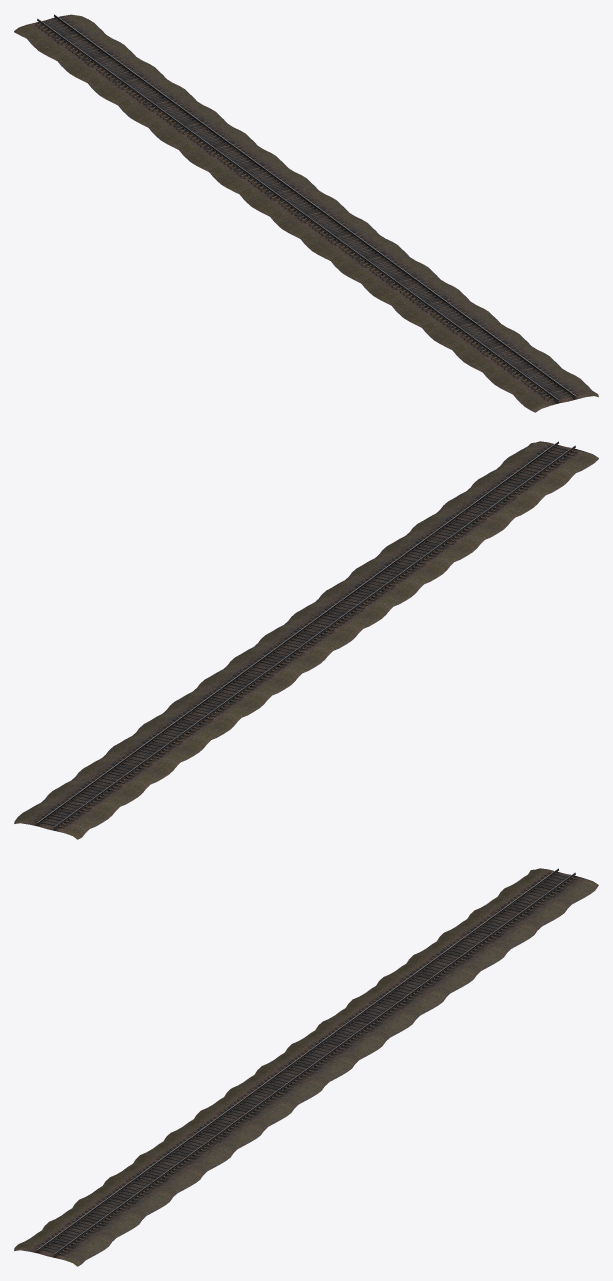
The model's file is 1track_85_der_TSM.gltf.
3 renders of one model, top to bottom at view 1: azimuth 30°, elevation 25°; view 2: azimuth 150°, elevation 25°; view 3: azimuth 330°, elevation 25°, orthographic.
Size of the model in its own units: 6.7 by 0.6438 by 85.8.
Materials: 1 (1 with a texture image).
